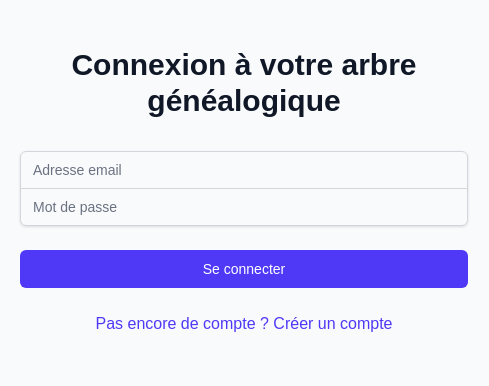
SignIn Page › shows error message on invalid credentials
Step 1. Type "test@example.com" into the field with test id "email-input" → (244, 170), box [20,150,468,188]
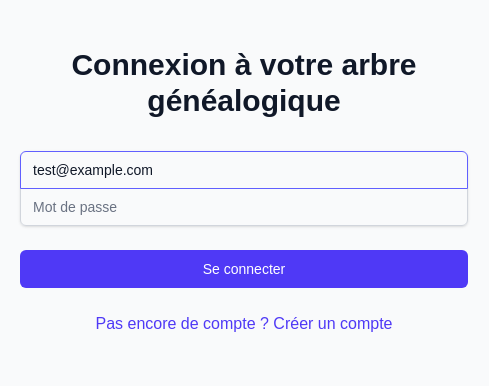
Step 2. Type "wrongpassword" into the password field with test id "password-input" → (244, 206), box [20,188,468,226]
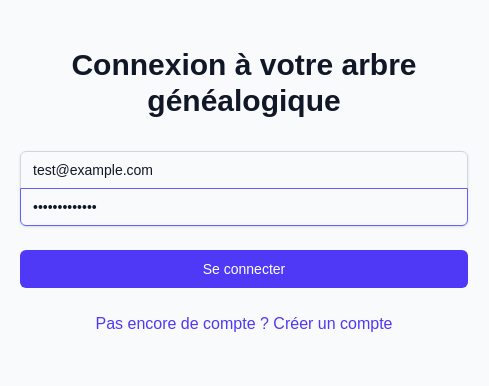
Step 3. Click the button with test id "signin-submit-button" → (244, 268), box [20,250,468,288]
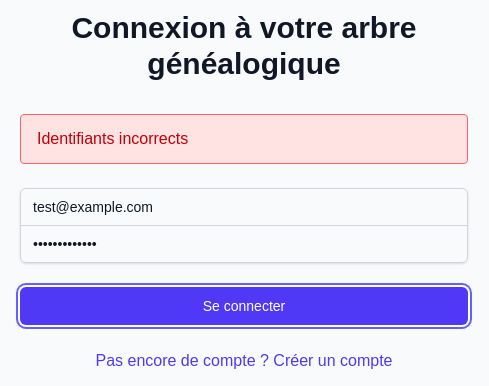
Now the text "Identifiants incorrects" is shown, box [20,114,468,164]
Now the text with test id "signin-error" reads "Identifiants incorrects", box [37,130,188,146]
